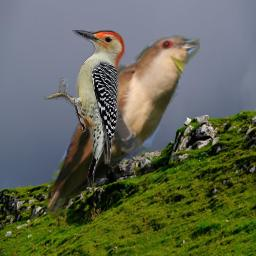Cuckoo: (39, 35, 200, 224)
Woodpecker: (44, 30, 125, 188)
